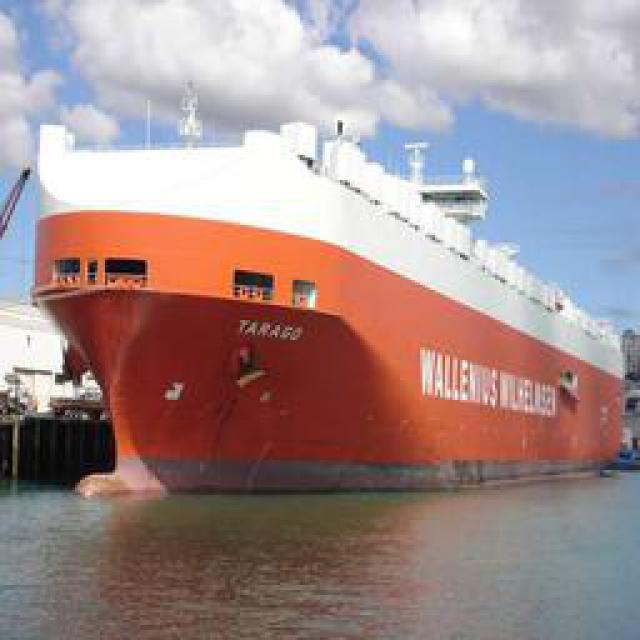Ship: (10, 42, 640, 508)
